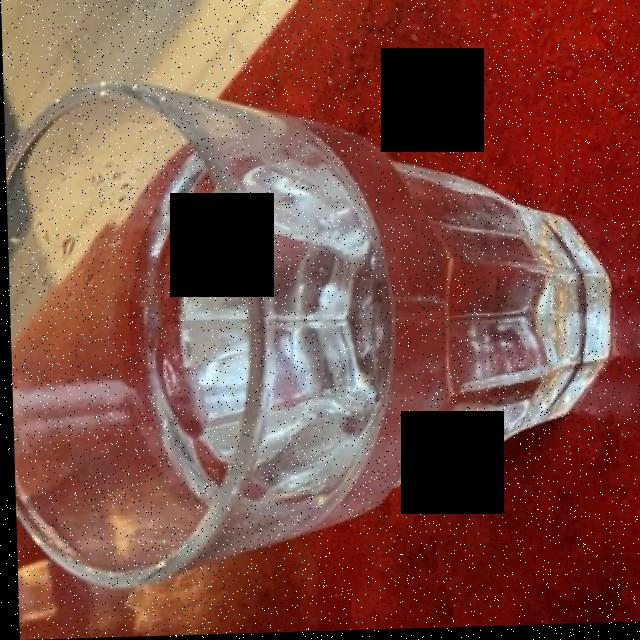water: (137, 114, 581, 520)
